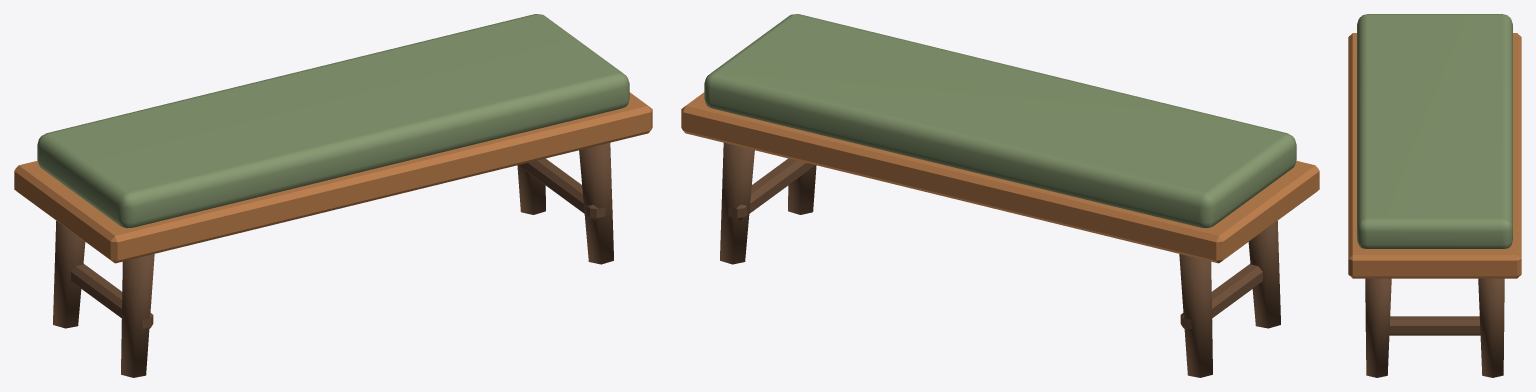
Rendered from bench.glb.
The picture shows the model from 3 angles, left to right: view 1: azimuth 30°, elevation 25°; view 2: azimuth 150°, elevation 25°; view 3: azimuth 270°, elevation 25°; orthographic projection. The views are drawn at different scales.
Parts seen in each view (by area): view 1: bench_pad, bench_seat, bench_leg_-0.775_-0.195, bench_leg_0.775_-0.195, bench_leg_-0.775_0.195, bench_stretcher_0.775, bench_stretcher_-0.775, bench_leg_0.775_0.195; view 2: bench_pad, bench_seat, bench_leg_-0.775_0.195, bench_leg_0.775_0.195, bench_leg_-0.775_-0.195, bench_stretcher_0.775, bench_stretcher_-0.775, bench_leg_0.775_-0.195; view 3: bench_pad, bench_seat, bench_leg_0.775_0.195, bench_leg_0.775_-0.195, bench_stretcher_0.775.
Part boxes in pixels (bbox=[...]): bench_pad: bbox=[37, 14, 629, 228]; bench_seat: bbox=[14, 92, 652, 263]; bench_leg_-0.775_-0.195: bbox=[121, 254, 154, 377]; bench_leg_0.775_-0.195: bbox=[579, 143, 613, 264]; bench_leg_-0.775_0.195: bbox=[53, 221, 85, 328]; bench_stretcher_0.775: bbox=[519, 158, 605, 220]; bench_stretcher_-0.775: bbox=[71, 264, 153, 328]; bench_leg_0.775_0.195: bbox=[517, 165, 545, 214]; bench_pad: bbox=[704, 14, 1296, 228]; bench_seat: bbox=[681, 92, 1319, 263]; bench_leg_-0.775_0.195: bbox=[1179, 254, 1212, 377]; bench_leg_0.775_0.195: bbox=[720, 143, 754, 264]; bench_leg_-0.775_-0.195: bbox=[1248, 221, 1280, 328]; bench_stretcher_0.775: bbox=[728, 158, 814, 220]; bench_stretcher_-0.775: bbox=[1180, 264, 1262, 328]; bench_leg_0.775_-0.195: bbox=[788, 165, 816, 214]; bench_pad: bbox=[1357, 14, 1512, 248]; bench_seat: bbox=[1348, 33, 1521, 278]; bench_leg_0.775_0.195: bbox=[1478, 278, 1504, 377]; bench_leg_0.775_-0.195: bbox=[1365, 278, 1391, 377]; bench_stretcher_0.775: bbox=[1365, 316, 1504, 335].
Size of the model in its own units: 1.85 by 0.6123 by 0.6.
